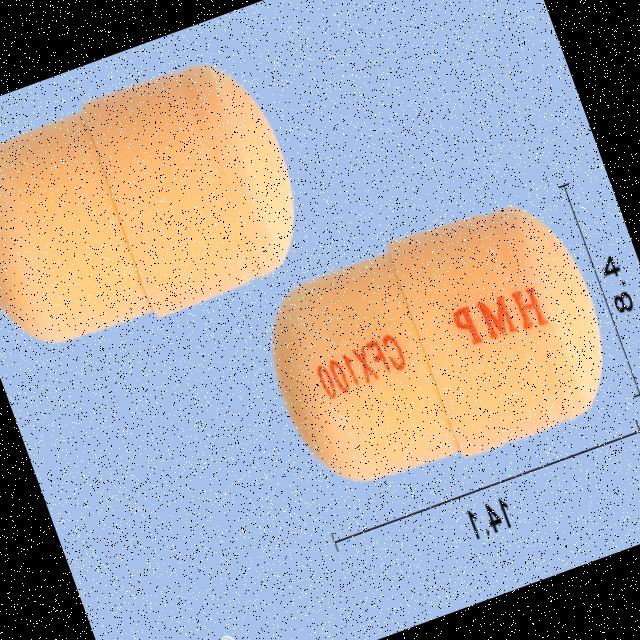Cefix Cap: (240, 179, 633, 518), (0, 42, 325, 377)
